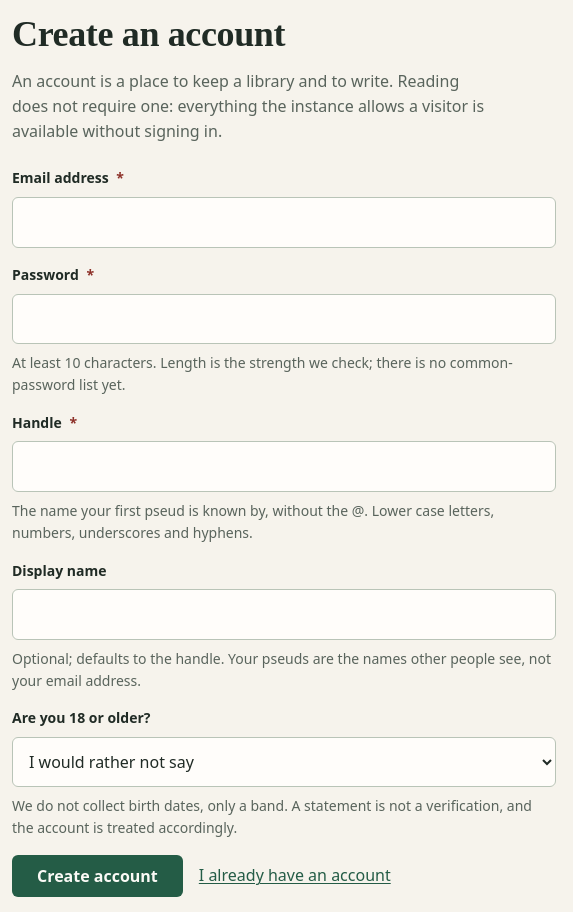
Test: registration › shows a duplicate handle on the handle field, not in a generic banner alone
The image size is (573, 912).
Type "quill" into the field labelled "Handle *".
click(284, 467); type("quill")  # box [12,441,556,492]
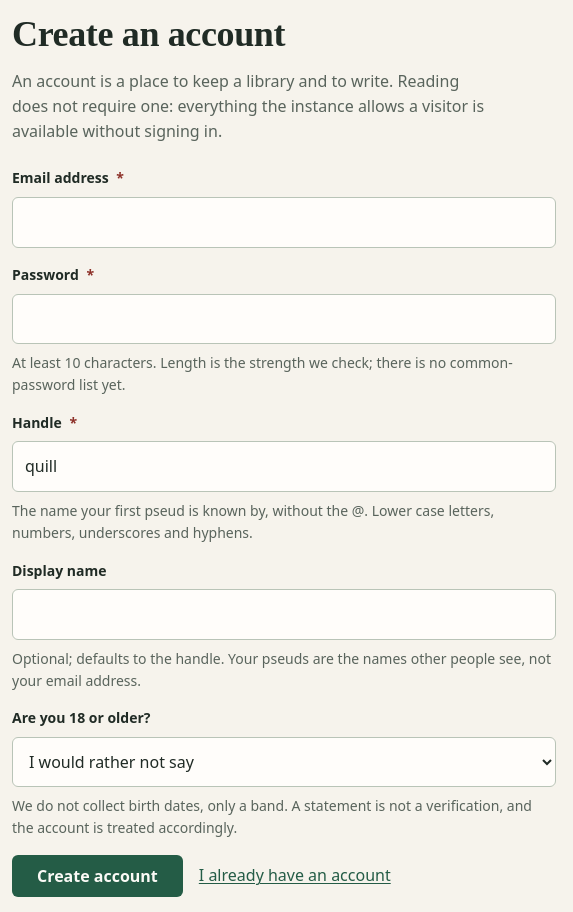
Submit the form
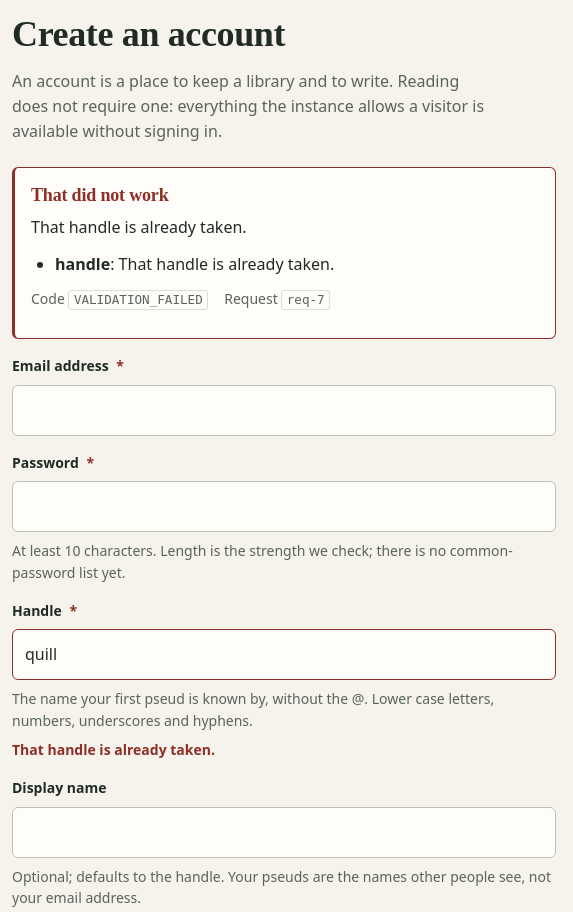
Now the text "req-7" is shown, box [281,290,330,310]
